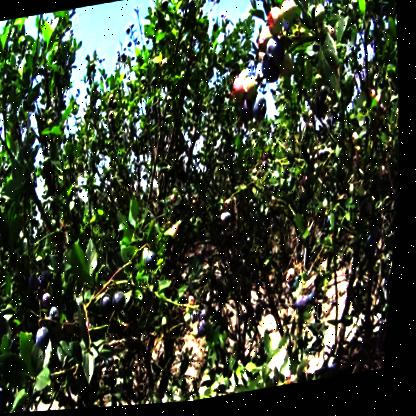intermediate: (232, 81, 260, 106), (268, 7, 285, 42), (258, 31, 273, 55)
mature: (263, 63, 282, 90), (41, 327, 58, 353), (147, 249, 164, 274), (240, 103, 258, 125), (269, 43, 285, 67), (254, 101, 270, 124), (1, 385, 17, 407), (53, 305, 67, 325), (117, 296, 132, 314), (34, 275, 52, 289), (46, 292, 59, 309), (106, 298, 118, 313)
young: (282, 2, 300, 29), (281, 55, 298, 81), (315, 9, 327, 28)
